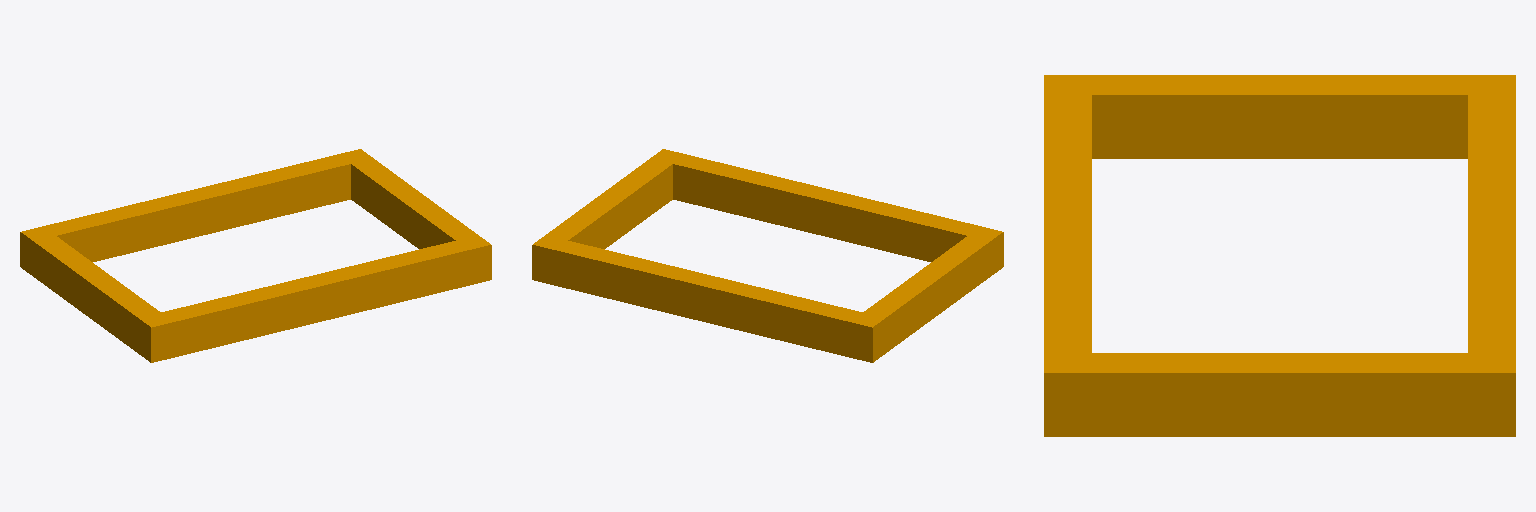
robot.urdf — synthetic_hollow_frame:
<?xml version='1.0' encoding='utf-8'?>
<robot name="synthetic_hollow_frame">
  <link name="frame">
    <visual>
      <origin xyz="0 0.09 0" rpy="0 0 0" />
      <geometry>
        <box size="0.3 0.02 0.03" />
      </geometry>
    </visual>
    <collision>
      <origin xyz="0 0.09 0" rpy="0 0 0" />
      <geometry>
        <box size="0.3 0.02 0.03" />
      </geometry>
    </collision>
    <visual>
      <origin xyz="0 -0.09 0" rpy="0 0 0" />
      <geometry>
        <box size="0.3 0.02 0.03" />
      </geometry>
    </visual>
    <collision>
      <origin xyz="0 -0.09 0" rpy="0 0 0" />
      <geometry>
        <box size="0.3 0.02 0.03" />
      </geometry>
    </collision>
    <visual>
      <origin xyz="0.14 0 0" rpy="0 0 0" />
      <geometry>
        <box size="0.02 0.16 0.03" />
      </geometry>
    </visual>
    <collision>
      <origin xyz="0.14 0 0" rpy="0 0 0" />
      <geometry>
        <box size="0.02 0.16 0.03" />
      </geometry>
    </collision>
    <visual>
      <origin xyz="-0.14 0 0" rpy="0 0 0" />
      <geometry>
        <box size="0.02 0.16 0.03" />
      </geometry>
    </visual>
    <collision>
      <origin xyz="-0.14 0 0" rpy="0 0 0" />
      <geometry>
        <box size="0.02 0.16 0.03" />
      </geometry>
    </collision>
    <inertial>
      <origin xyz="0 0 0" rpy="0 0 0" />
      <mass value="2" />
      <inertia ixx="0.010416666666666666" ixy="0" ixz="0" iyy="0.027283333333333333" iyz="0" izz="0.0374" />
    </inertial>
  </link>
</robot>

--- Facts derived from the render (not from the file) ---
The picture shows the robot from 3 angles, left to right: view 1: azimuth 30°, elevation 25°; view 2: azimuth 150°, elevation 25°; view 3: azimuth 270°, elevation 25°; orthographic projection.
Model synthetic_hollow_frame with 1 links and 0 joints (none), rooted at frame, posed all joints at 0.
Links seen in each view (by area): view 1: frame; view 2: frame; view 3: frame.
Boxes of the visible links, x1,y1,x2,y2 form: frame: (20, 149, 491, 362); frame: (532, 149, 1003, 362); frame: (1044, 75, 1515, 436).
Bounding box of the posed robot: 0.3 × 0.2 × 0.03 m (x, y, z).
Geometry: primitives only (box / cylinder / sphere), no mesh files.
